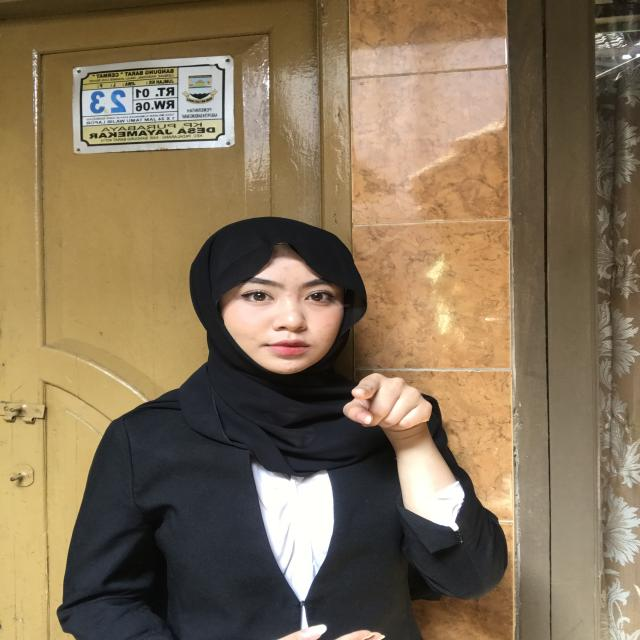kamu: (312, 363, 461, 464)
